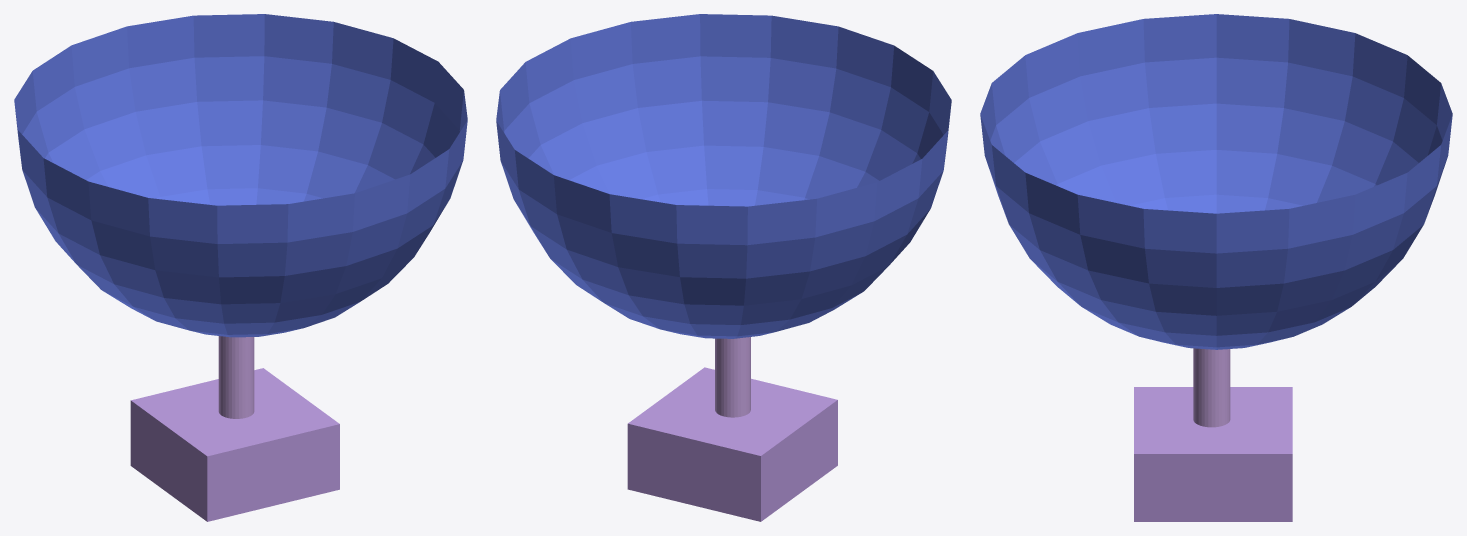
Rendered from trophy.glb.
3 renders of one model, left to right at view 1: azimuth 30°, elevation 25°; view 2: azimuth 150°, elevation 25°; view 3: azimuth 270°, elevation 25°, orthographic. The views are drawn at different scales.
Visible parts, largest first — view 1: Sphere, Cube, Cylinder; view 2: Sphere, Cube, Cylinder; view 3: Sphere, Cube, Cylinder.
Boxes of the visible parts, x1,y1,x2,y2 form: Sphere: (14, 14, 467, 337); Cube: (130, 368, 339, 521); Cylinder: (218, 336, 254, 418); Sphere: (496, 14, 951, 338); Cube: (627, 367, 837, 521); Cylinder: (715, 337, 750, 417); Sphere: (980, 14, 1452, 349); Cube: (1134, 387, 1292, 521); Cylinder: (1193, 348, 1230, 427).
Size of the model in its own units: 6.44 by 5.69 by 6.44.
